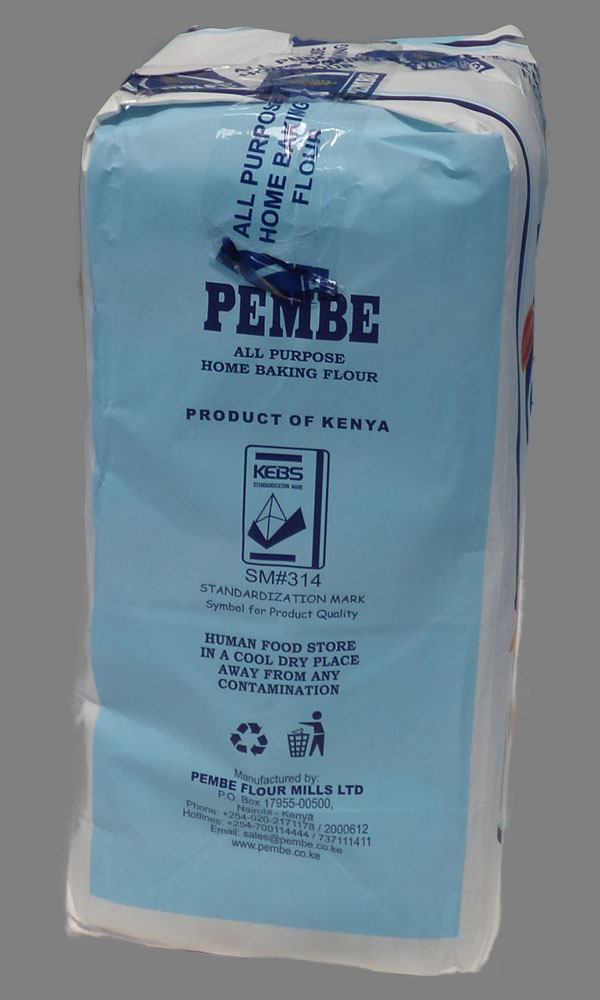wheat_flour_blue_label: (80, 34, 531, 964)
